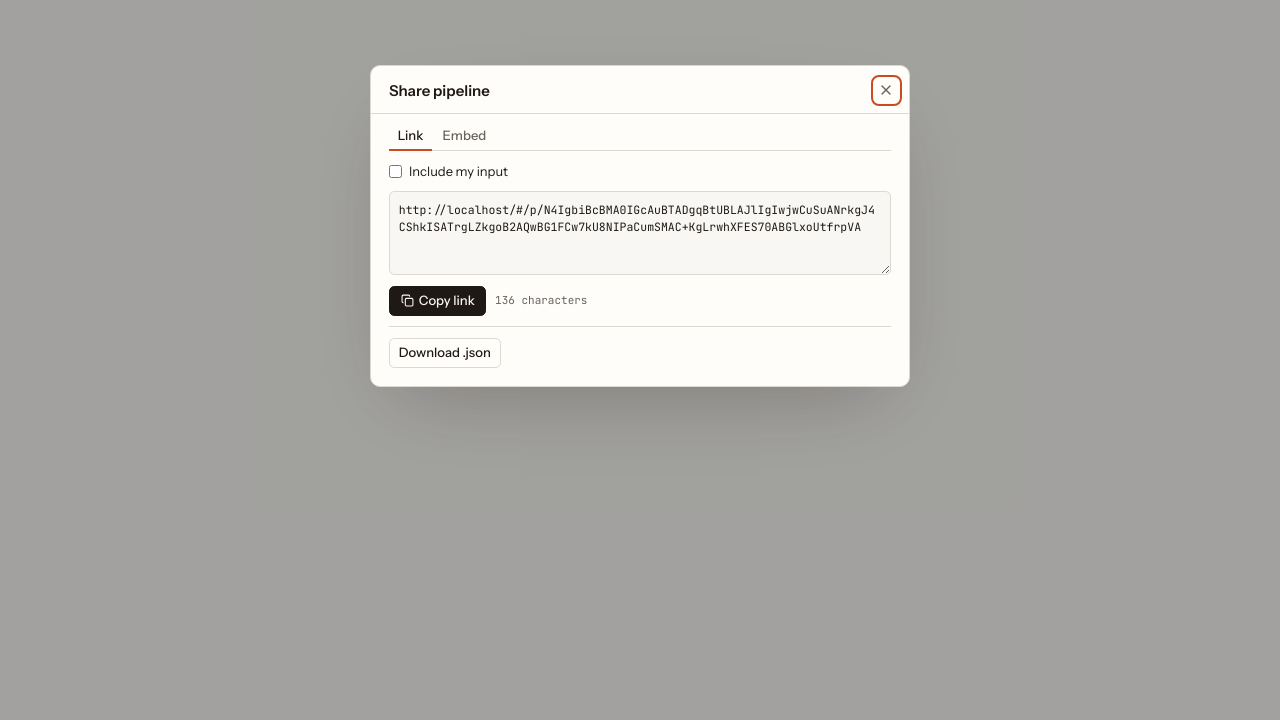
Scenario: ShareDialog › warns above 8,000 characters
Click the checkbox labelled "Include my input".
click(396, 172)  # box [389, 165, 402, 178]
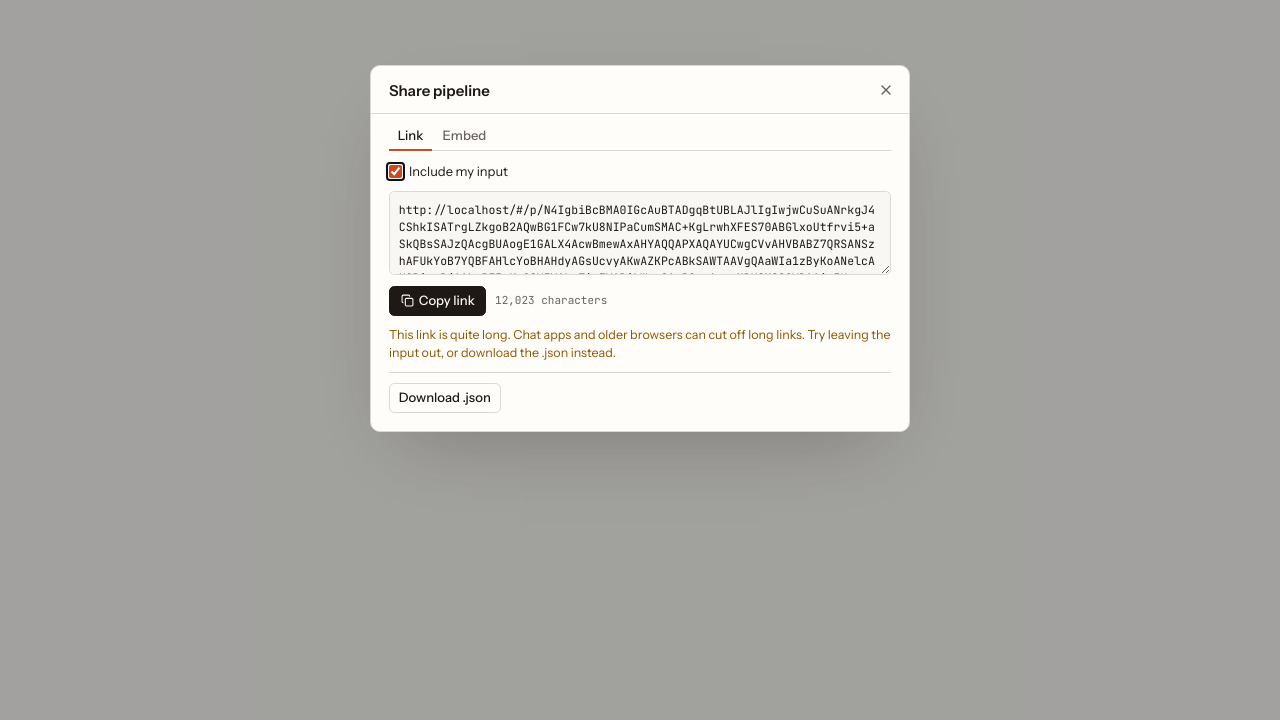
Result: the message shows "quite long" at [389, 327, 890, 360]
